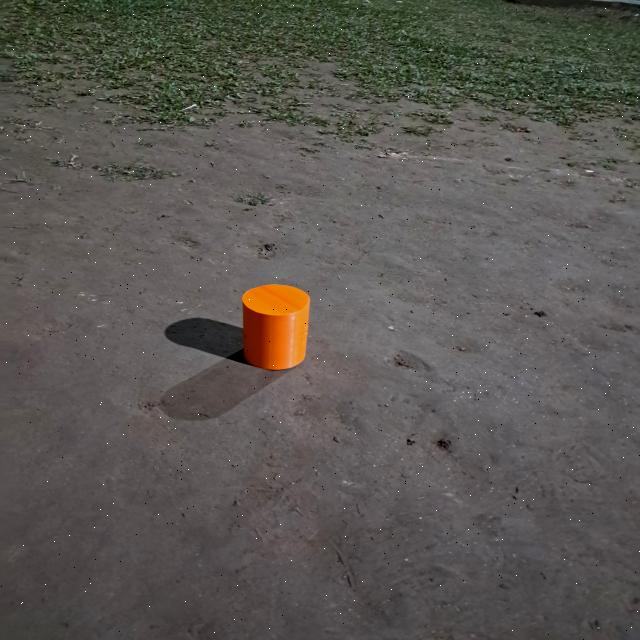Cylinder: (240, 283, 310, 370)
